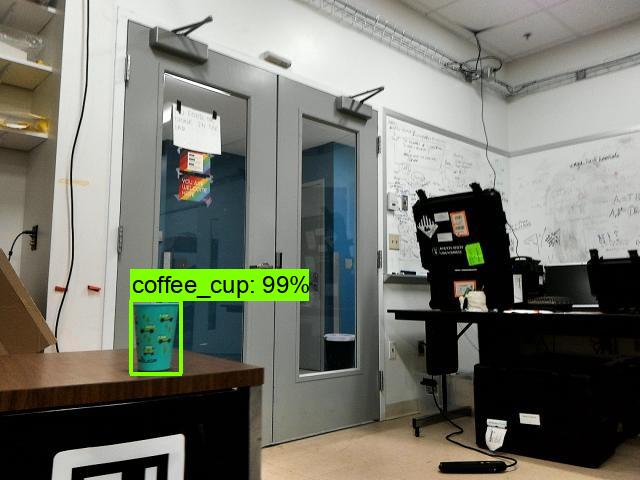coffee_cup: (130, 300, 182, 373)
